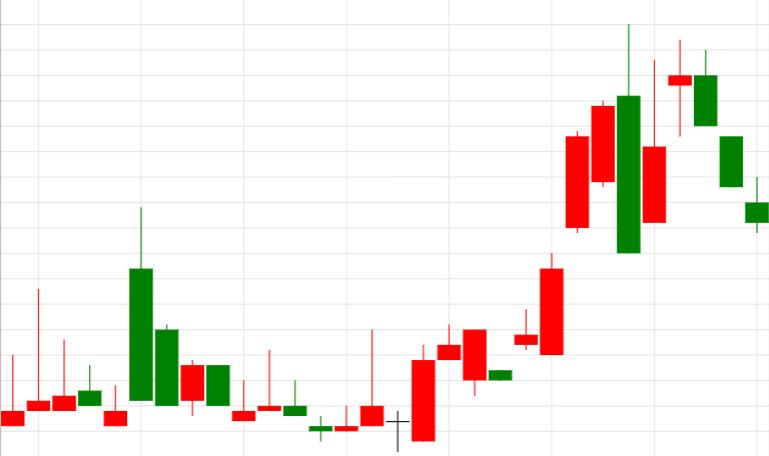bearish_engulfing_fall: (412, 25, 641, 441)
